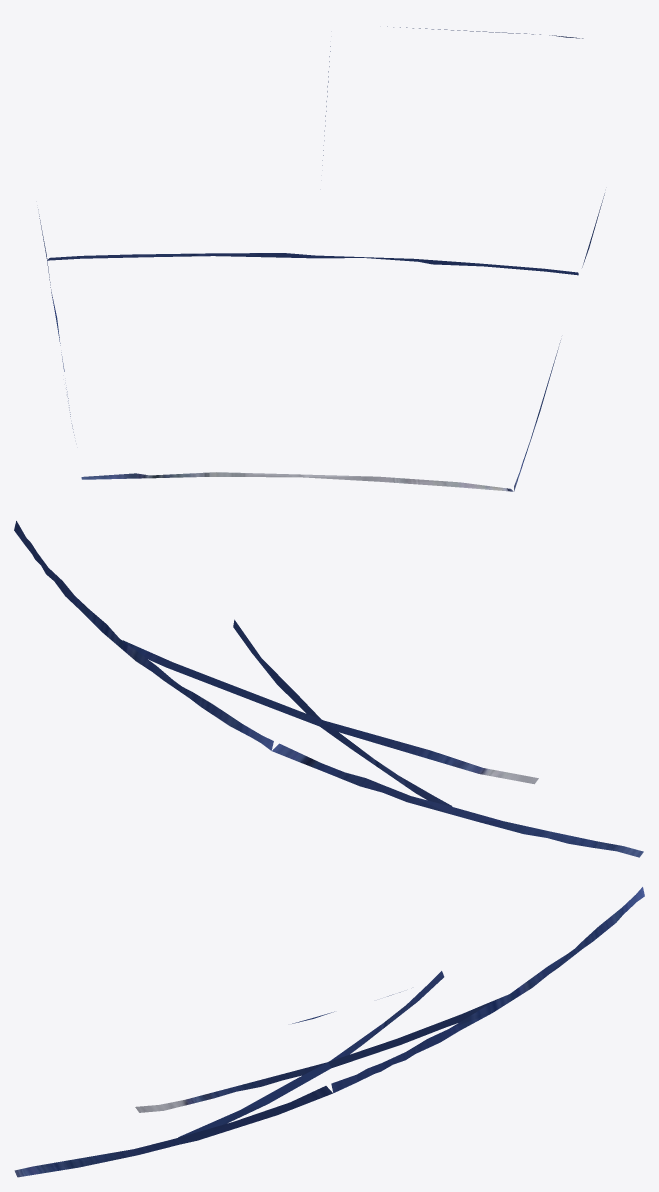
3 views of the same model, one above another, from view 1: azimuth 30°, elevation 25°; view 2: azimuth 150°, elevation 25°; view 3: azimuth 270°, elevation 25° (orthographic). The views are drawn at different scales.
Size of the model in its own units: 1588687 by 620907 by 1562042.
1 material, 1 textured.
